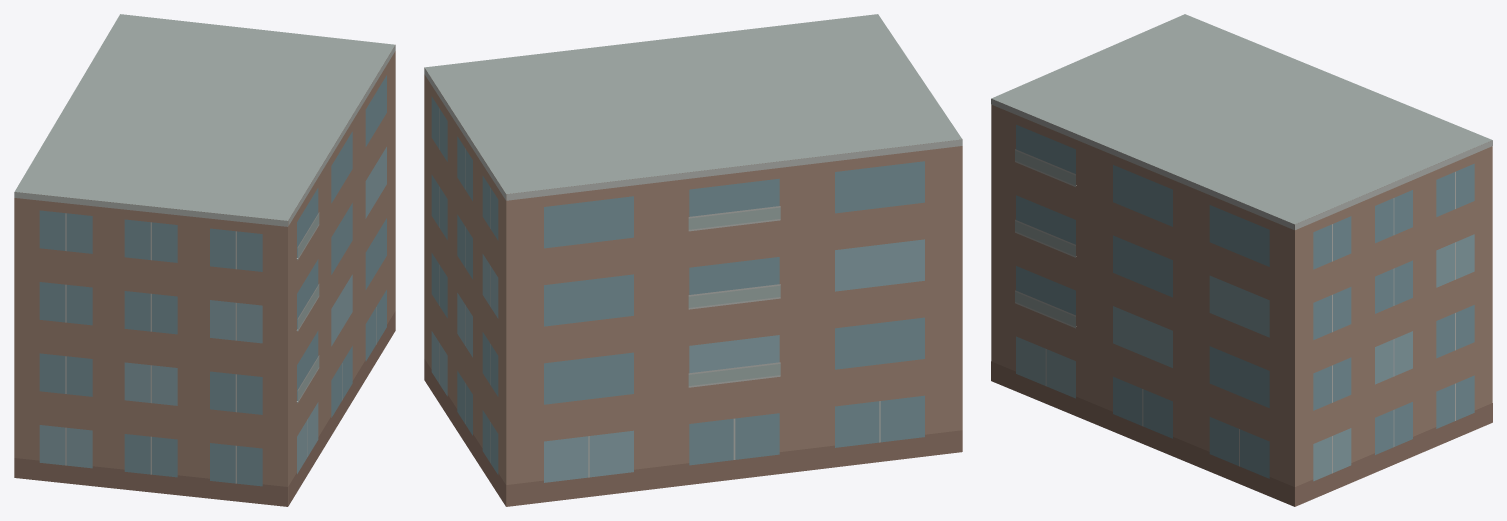
File: survey-upis-32594505.glb
3 views of the same model, side by side, from view 1: azimuth 30°, elevation 25°; view 2: azimuth 150°, elevation 25°; view 3: azimuth 270°, elevation 25° (orthographic). The views are drawn at different scales.
Visible parts, largest first — view 1: survey-upis-32594505.tmp; view 2: survey-upis-32594505.tmp; view 3: survey-upis-32594505.tmp.
Part boxes in pixels (x1,y1,x2,y2): survey-upis-32594505.tmp: (14,14,395,506); survey-upis-32594505.tmp: (424,14,962,506); survey-upis-32594505.tmp: (991,14,1492,506).
Size of the model in its own units: 18.62 by 11.65 by 18.76.
